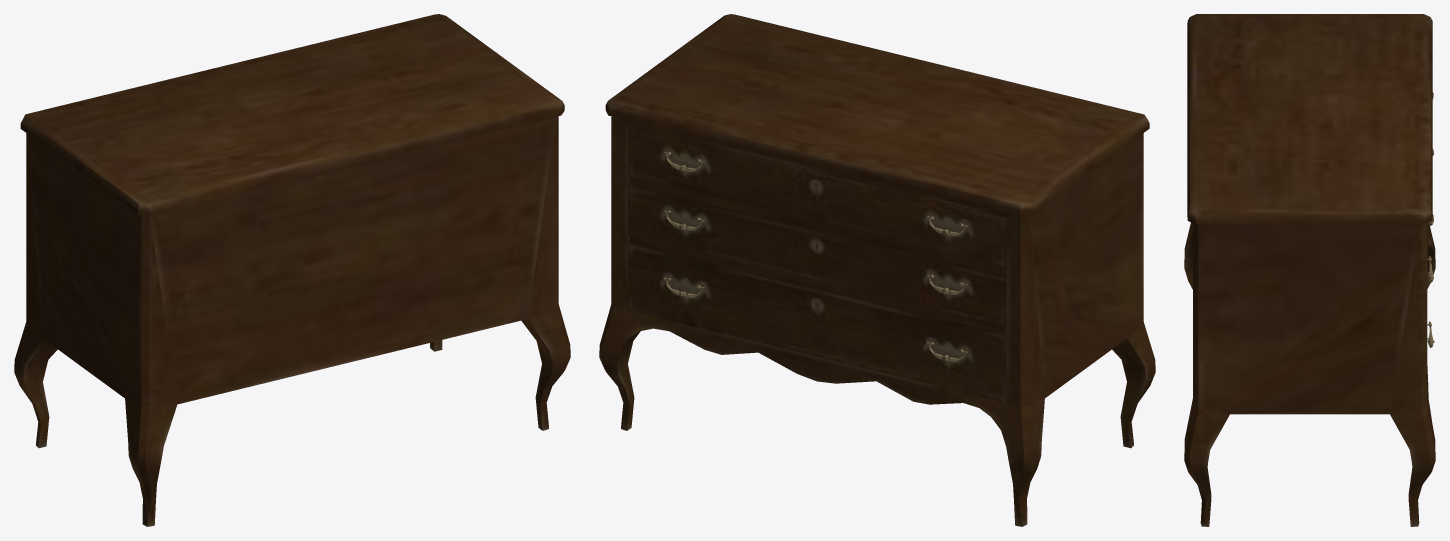
The model's file is chest-commode.lod1.glb.
The picture shows the model from 3 angles, left to right: view 1: azimuth 30°, elevation 25°; view 2: azimuth 150°, elevation 25°; view 3: azimuth 270°, elevation 25°; orthographic projection. The views are drawn at different scales.
Visible parts, largest first — view 1: chest-commode; view 2: chest-commode; view 3: chest-commode.
Part boxes in pixels (x1,y1,x2,y2): chest-commode: (14,14,570,526); chest-commode: (599,14,1155,526); chest-commode: (1184,14,1435,526).
Bounding box in the file's own units: 1.01 × 0.7375 × 0.5245.
Materials: 1 (1 with a texture image).
